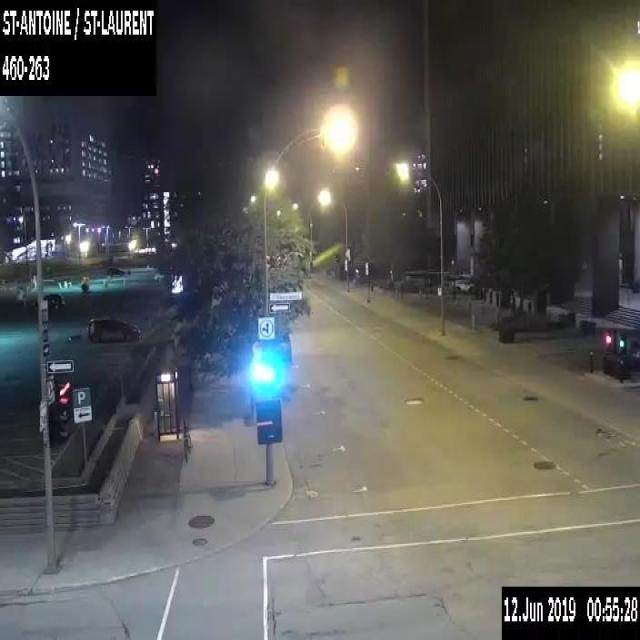vehicle: (87, 316, 141, 342), (268, 332, 291, 364), (32, 292, 64, 308), (106, 266, 125, 276)
